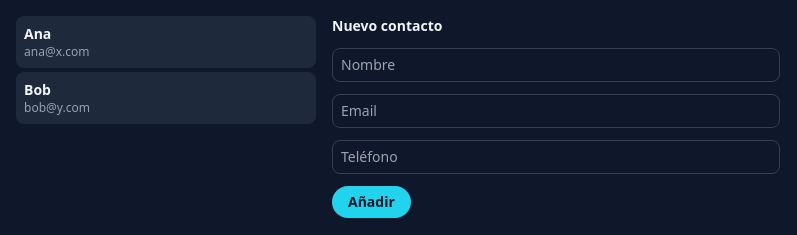
Test case: ContactosPage — CRUD de contactos › pinta los contactos y al clicar uno carga el formulario de edición
The image size is (797, 235).
Expected: the text "ana@x.com" is shown, [24,43,90,60]
What coordinates should you click on to do the following:
click the text "Ana"
I would click on:
 (38, 34)
Its box is [24,24,51,43].
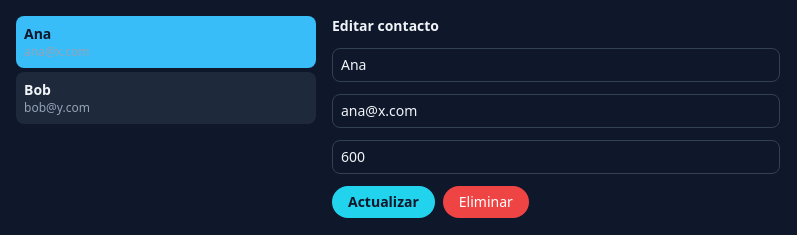
Expected: the heading "Editar contacto" is shown, [332,16,439,35]
Expected: the 1st field showing "Ana" holds "Ana", [332,48,780,82]
Expected: the 2nd field showing "ana@x.com" holds "ana@x.com", [332,94,780,128]
